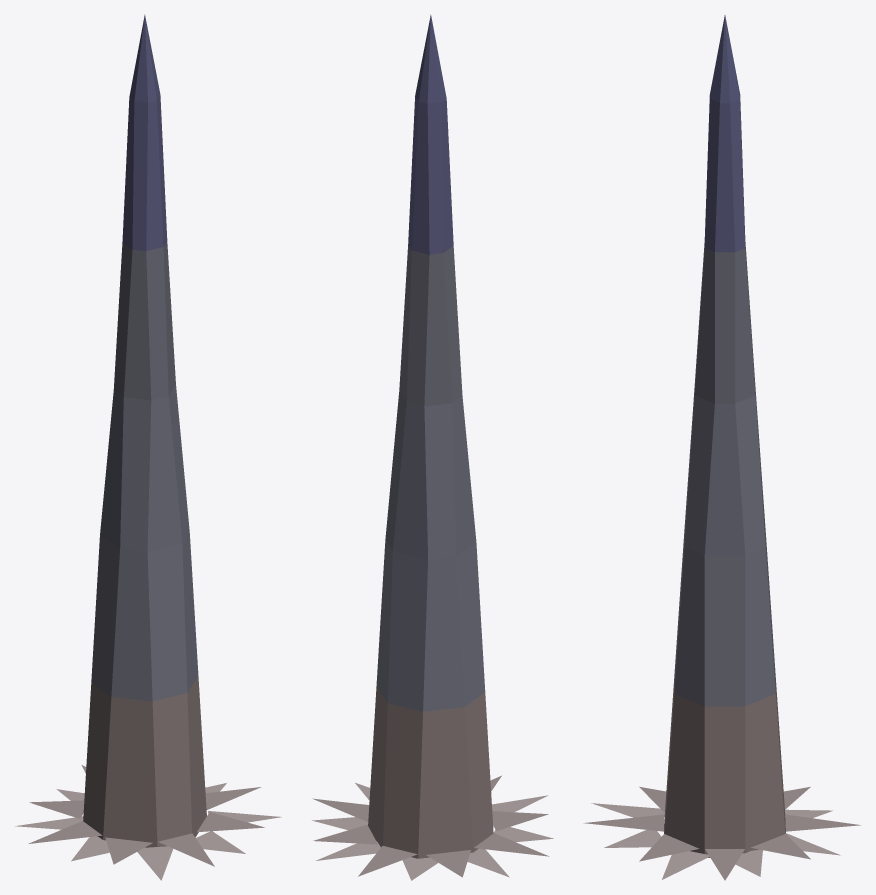
The model's file is model_3072_spotanim.obj.
3 views of the same model, side by side, from view 1: azimuth 30°, elevation 25°; view 2: azimuth 150°, elevation 25°; view 3: azimuth 270°, elevation 25° (orthographic).
Parts seen in each view (by area): view 1: 3072; view 2: 3072; view 3: 3072.
Part boxes in pixels (x1,y1,x2,y2): 3072: (15, 14, 281, 880); 3072: (312, 14, 553, 880); 3072: (583, 15, 860, 880).
Bounding box in the file's own units: 108 × 356 × 110.
